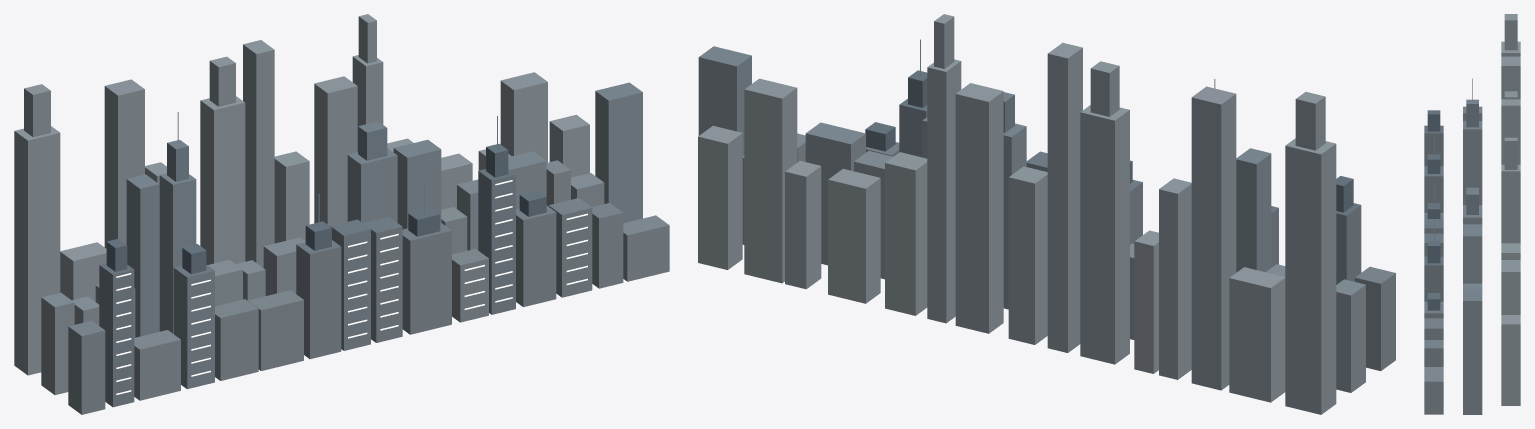
Rendered from skyline_backdrop.glb.
3 renders of one model, left to right at view 1: azimuth 30°, elevation 25°; view 2: azimuth 150°, elevation 25°; view 3: azimuth 270°, elevation 25°, orthographic. The views are drawn at different scales.
Parts seen in each view (by area): view 1: skyline_backdrop_mesh; view 2: skyline_backdrop_mesh; view 3: skyline_backdrop_mesh.
Boxes of the visible parts, x1=… form: skyline_backdrop_mesh: x1=14, y1=14, x2=669, y2=414; skyline_backdrop_mesh: x1=698, y1=14, x2=1395, y2=414; skyline_backdrop_mesh: x1=1424, y1=14, x2=1520, y2=414.
Bounding box in the file's own units: 75.66 × 34.07 × 15.03.
